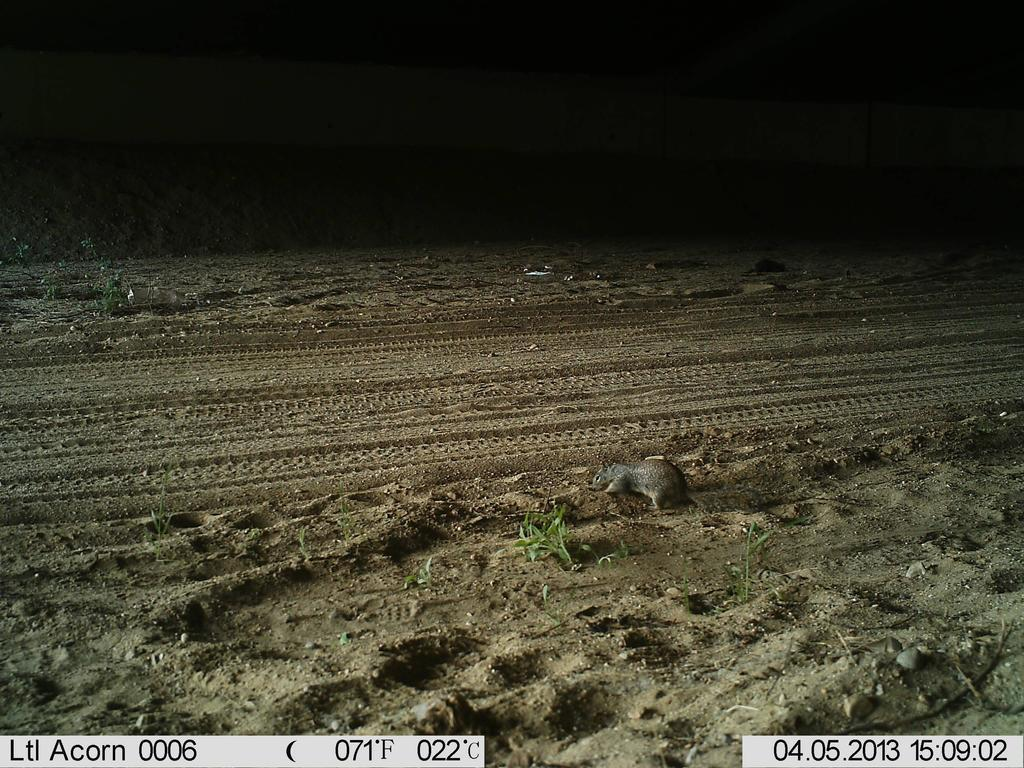squirrel: (580, 434, 709, 528)
